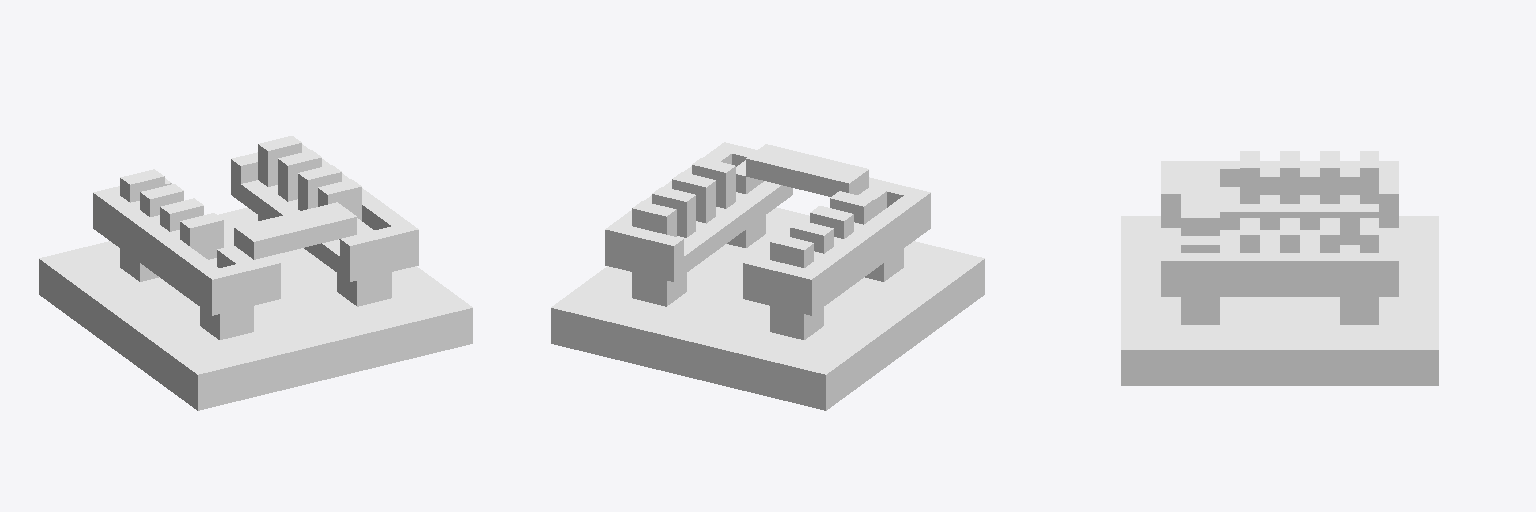
The model's file is powergenerator.obj.
3 views of the same model, side by side, from view 1: azimuth 30°, elevation 25°; view 2: azimuth 150°, elevation 25°; view 3: azimuth 270°, elevation 25° (orthographic).
Parts seen in each view (by area): view 1: object 1; view 2: object 1; view 3: object 1.
Boxes of the visible parts, box(x1,y1,x2,y2) form: object 1: box(39, 136, 472, 410); object 1: box(551, 142, 984, 410); object 1: box(1121, 151, 1438, 385).
Bounding box in the file's own units: 1.6 × 0.7 × 1.6.